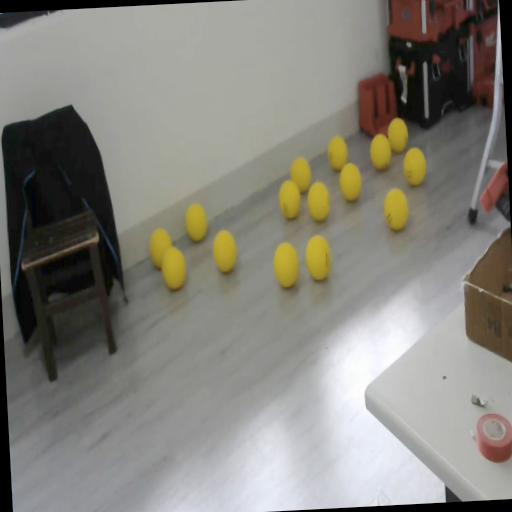FUEL: (271, 240, 301, 290), (304, 232, 332, 282), (382, 186, 410, 231), (211, 228, 238, 274), (148, 226, 174, 270), (306, 180, 330, 222), (184, 202, 208, 244), (338, 162, 363, 202), (402, 146, 427, 186), (278, 180, 302, 220), (386, 116, 410, 154), (326, 134, 349, 172), (369, 133, 392, 171), (290, 156, 312, 194)
